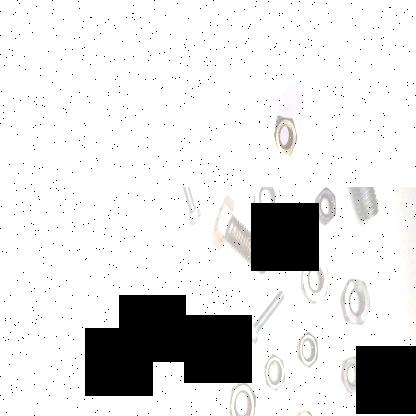Bolts: (243, 277, 284, 349), (335, 187, 383, 223), (167, 187, 202, 231)
NUTS: (339, 274, 371, 336), (187, 331, 221, 389), (297, 249, 329, 308), (152, 286, 178, 342), (336, 351, 366, 397), (225, 377, 258, 416), (248, 187, 282, 223), (271, 112, 297, 158), (261, 351, 287, 397), (294, 331, 322, 367), (313, 187, 336, 227), (291, 405, 317, 416)
